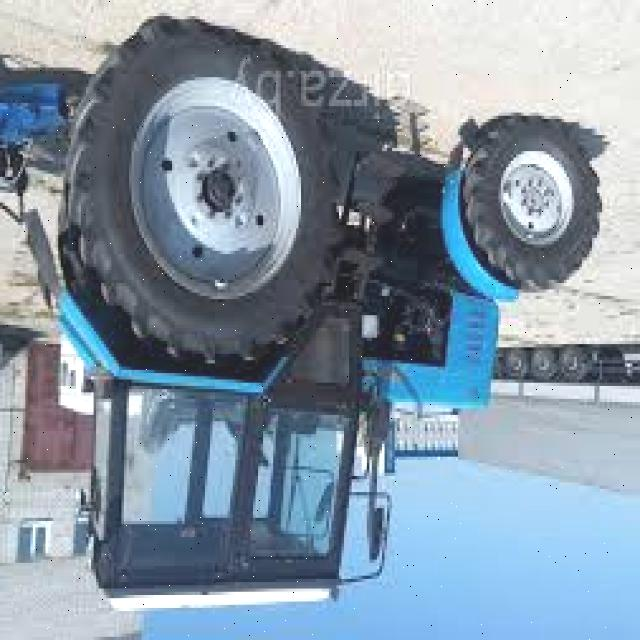Tratores - v5 YOLO V8L 2024-11-13: (55, 18, 600, 608)
